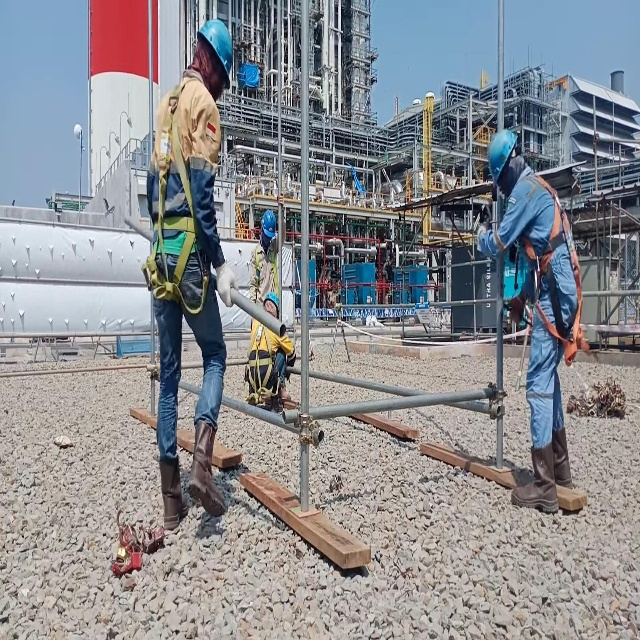Arnes_seguridad: (142, 73, 212, 320), (520, 168, 592, 367), (243, 321, 281, 410)
